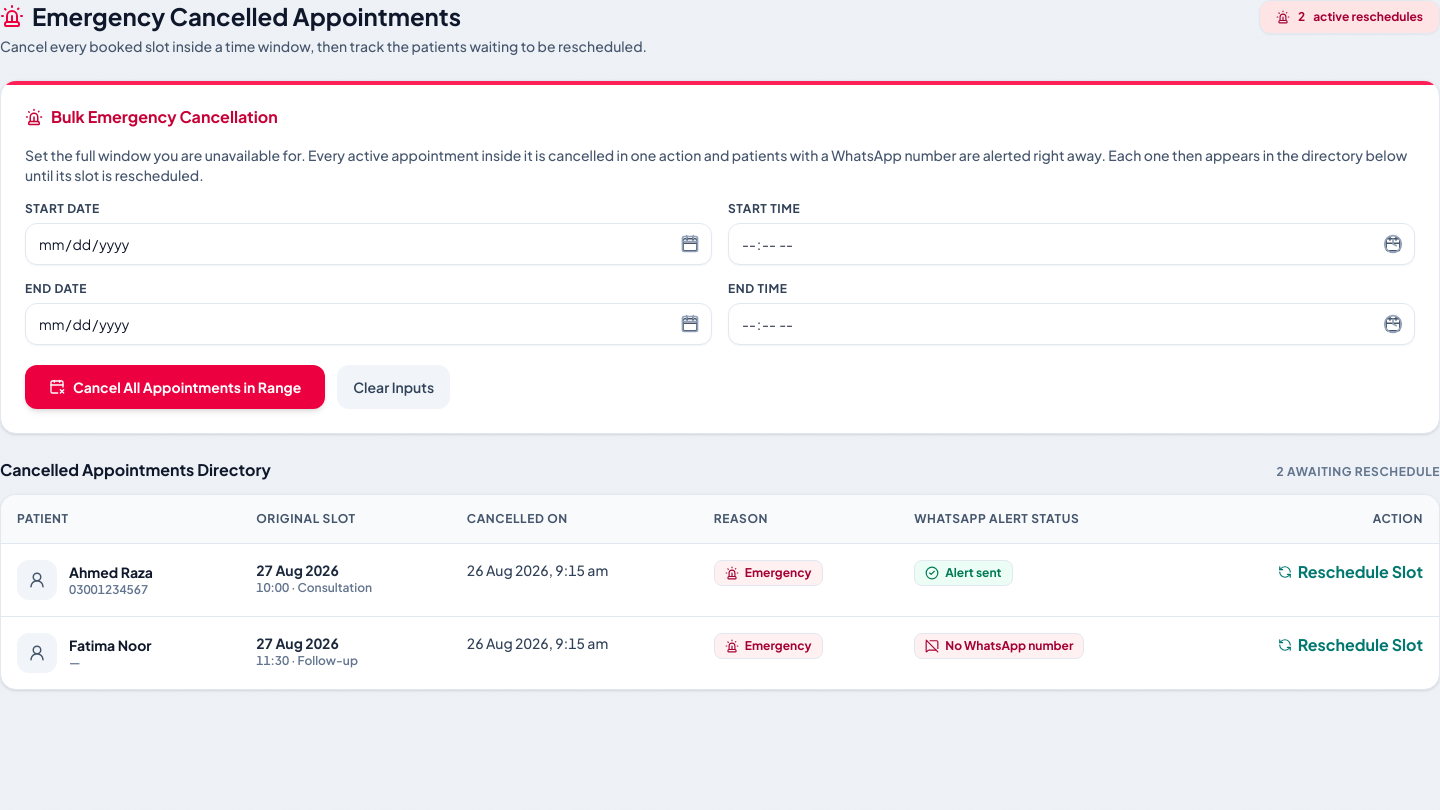
bulk emergency cancellation control › requires explicit confirmation, then posts the range and lists the result
The width and height of the screenshot is (1440, 810).
Type "2026-08-27" into the date field labelled "Start Date". click: (368, 244)
box: [25, 223, 712, 265]
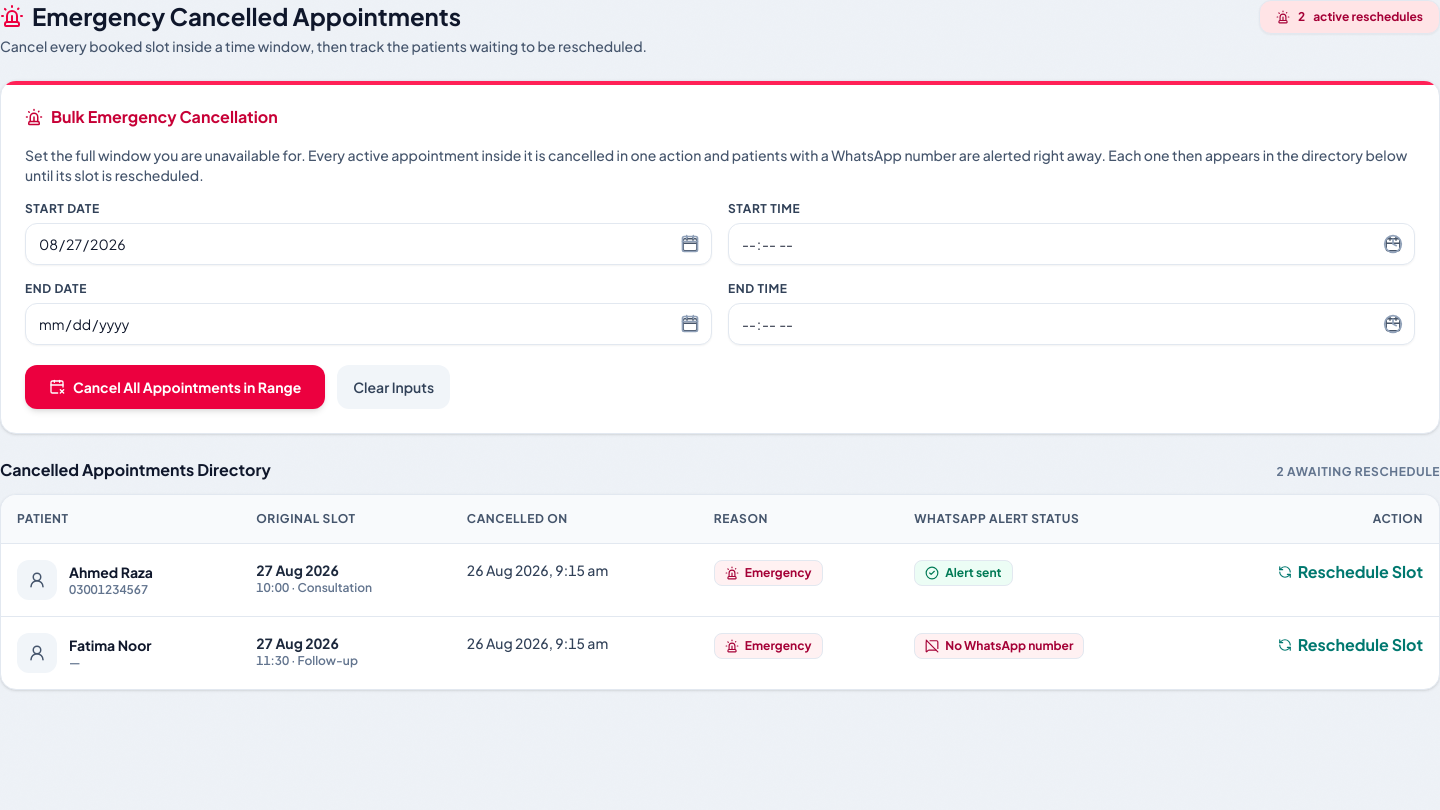
Type "09:00" into the time field labelled "Start Time". click: (1072, 244)
box: [728, 223, 1415, 265]
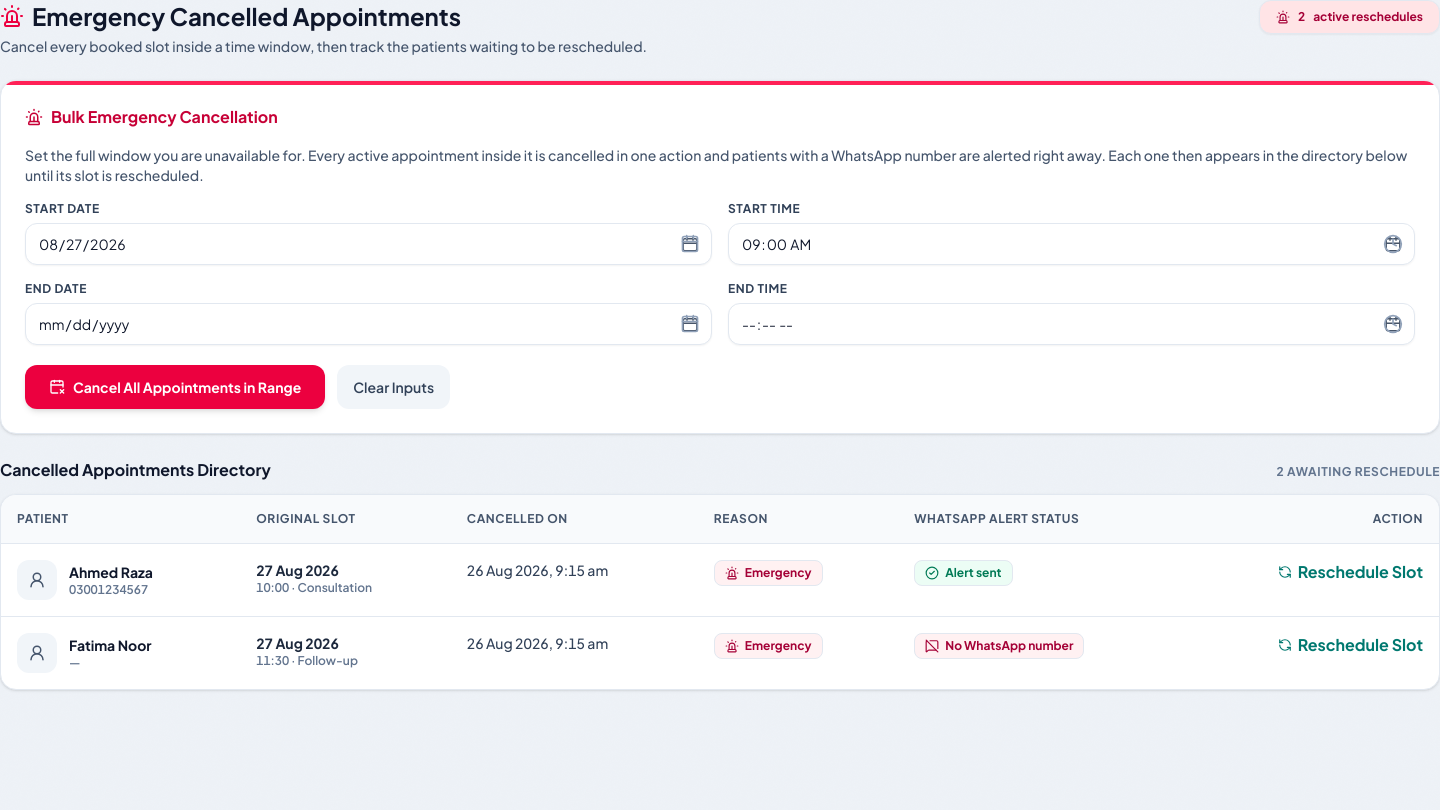
Type "2026-08-27" into the date field labelled "End Date". click: (368, 324)
box: [25, 303, 712, 345]
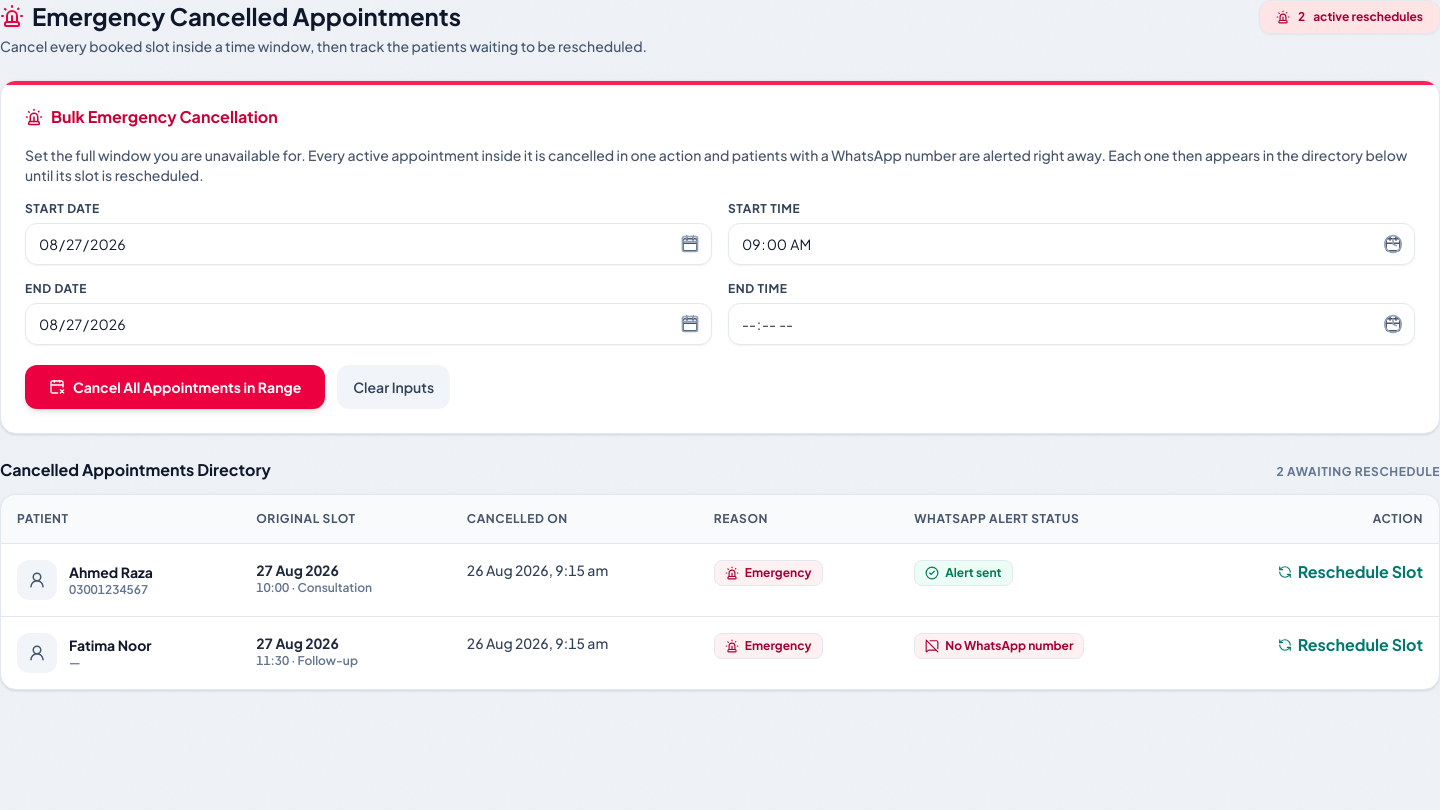
Type "13:00" into the time field labelled "End Time". click: (1072, 324)
box: [728, 303, 1415, 345]
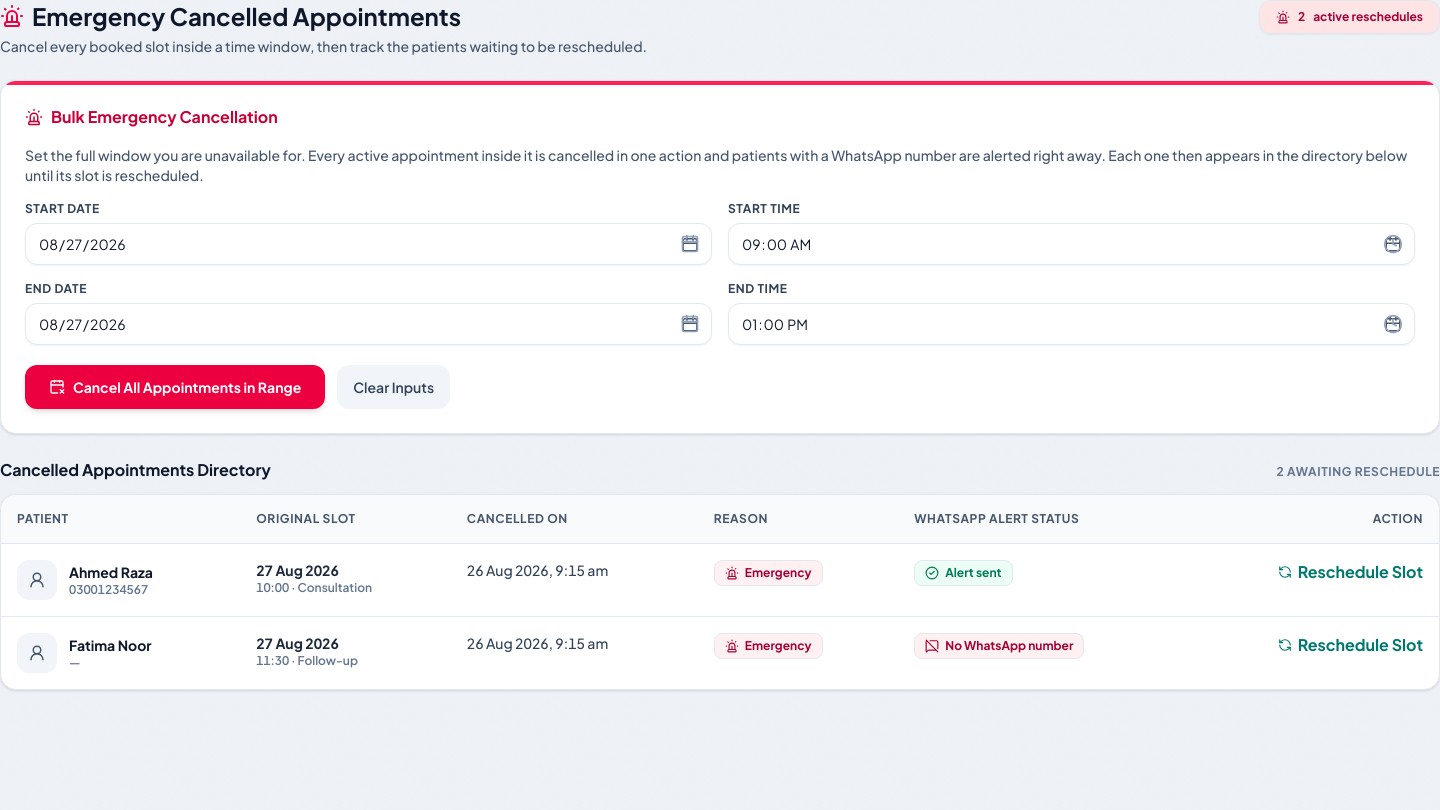
Click the button "Cancel All Appointments in Range". click: (175, 387)
box: [25, 365, 325, 409]
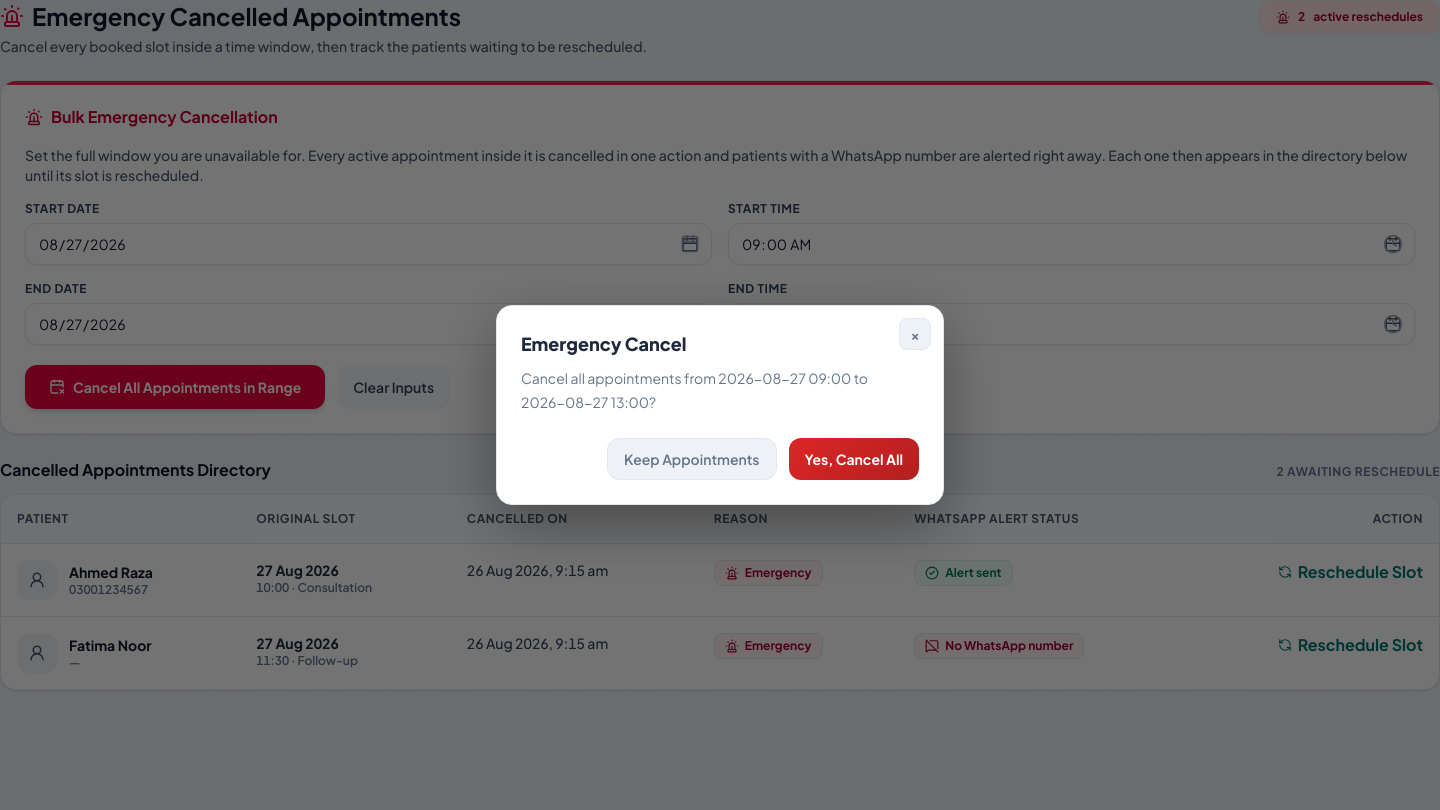
Expected: the dialog is shown, [496, 305, 944, 505]
Expected: the text "Cancel all appointments from 2026-08-27 09:00 to 2026-08-27 13:00" is shown, [521, 369, 868, 411]
Click the button "Yes, Cancel All". click: (854, 459)
box: [788, 438, 919, 480]
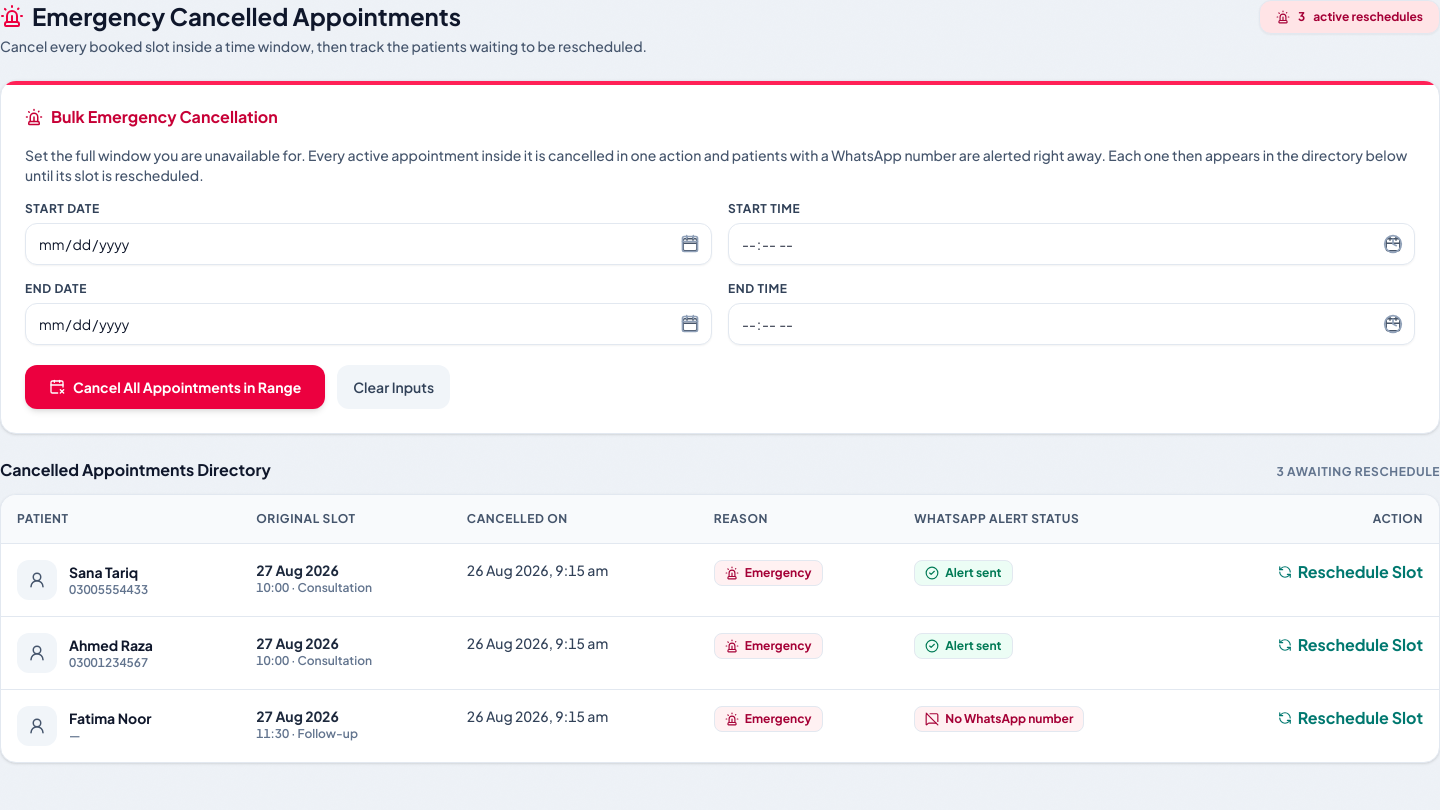
Expected: the text "Sana Tariq" is shown, [69, 562, 148, 582]
Expected: the text "Emergency" is shown 3 times, [714, 560, 822, 586]; [714, 633, 822, 659]; [714, 706, 822, 732]
Expected: the text "3 active reschedules" is shown, [1259, 0, 1439, 34]
